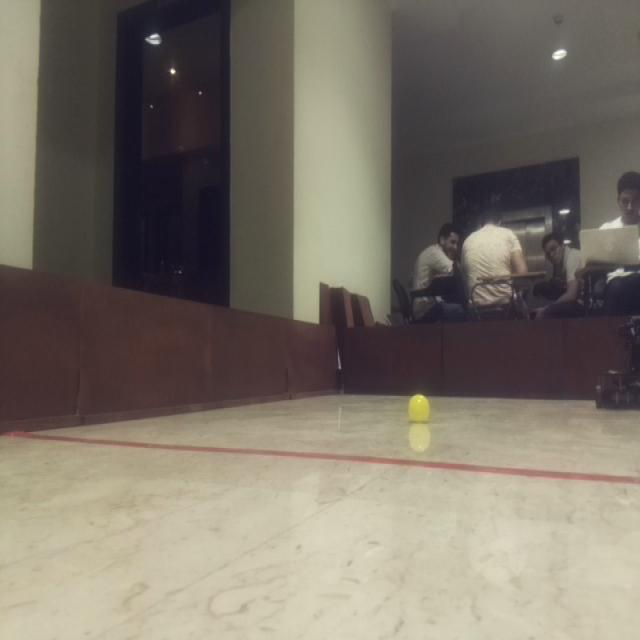ball: (405, 392, 435, 426)
